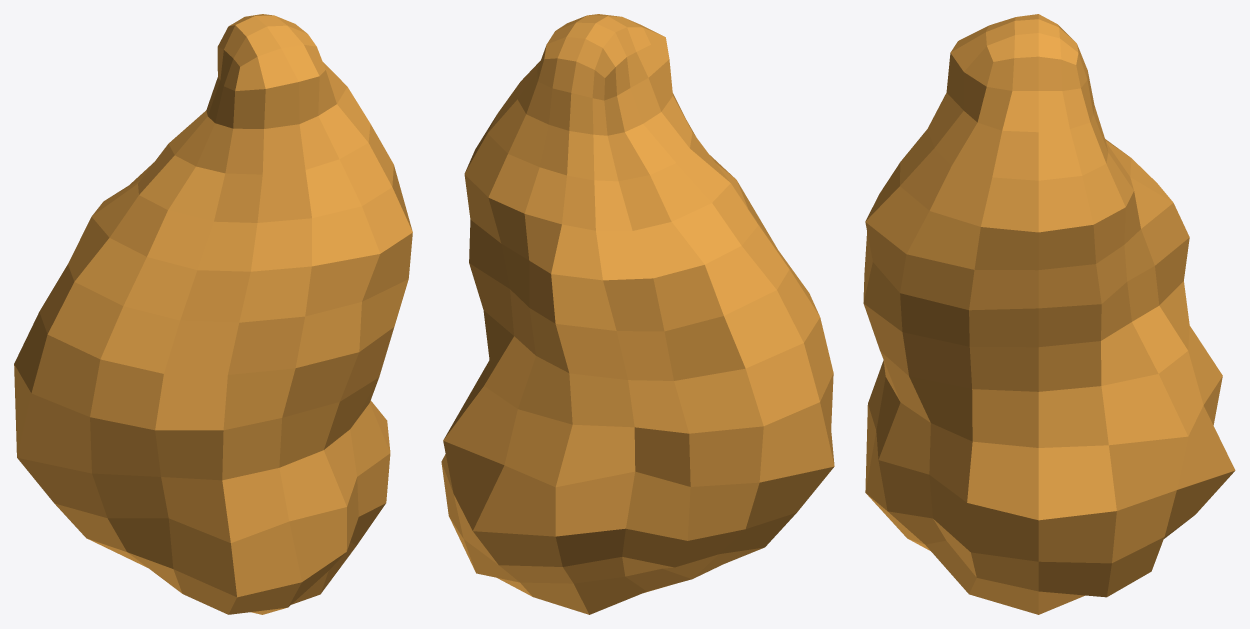
3 views of the same model, side by side, from view 1: azimuth 30°, elevation 25°; view 2: azimuth 150°, elevation 25°; view 3: azimuth 270°, elevation 25° (orthographic).
Visible parts, largest first — view 1: Cube; view 2: Cube; view 3: Cube.
Part boxes in pixels (x1=…): Cube: x1=14, y1=14, x2=412, y2=614; Cube: x1=441, y1=14, x2=834, y2=614; Cube: x1=863, y1=14, x2=1235, y2=614.
Size of the model in its own units: 0.8589 by 1.28 by 0.7478.
